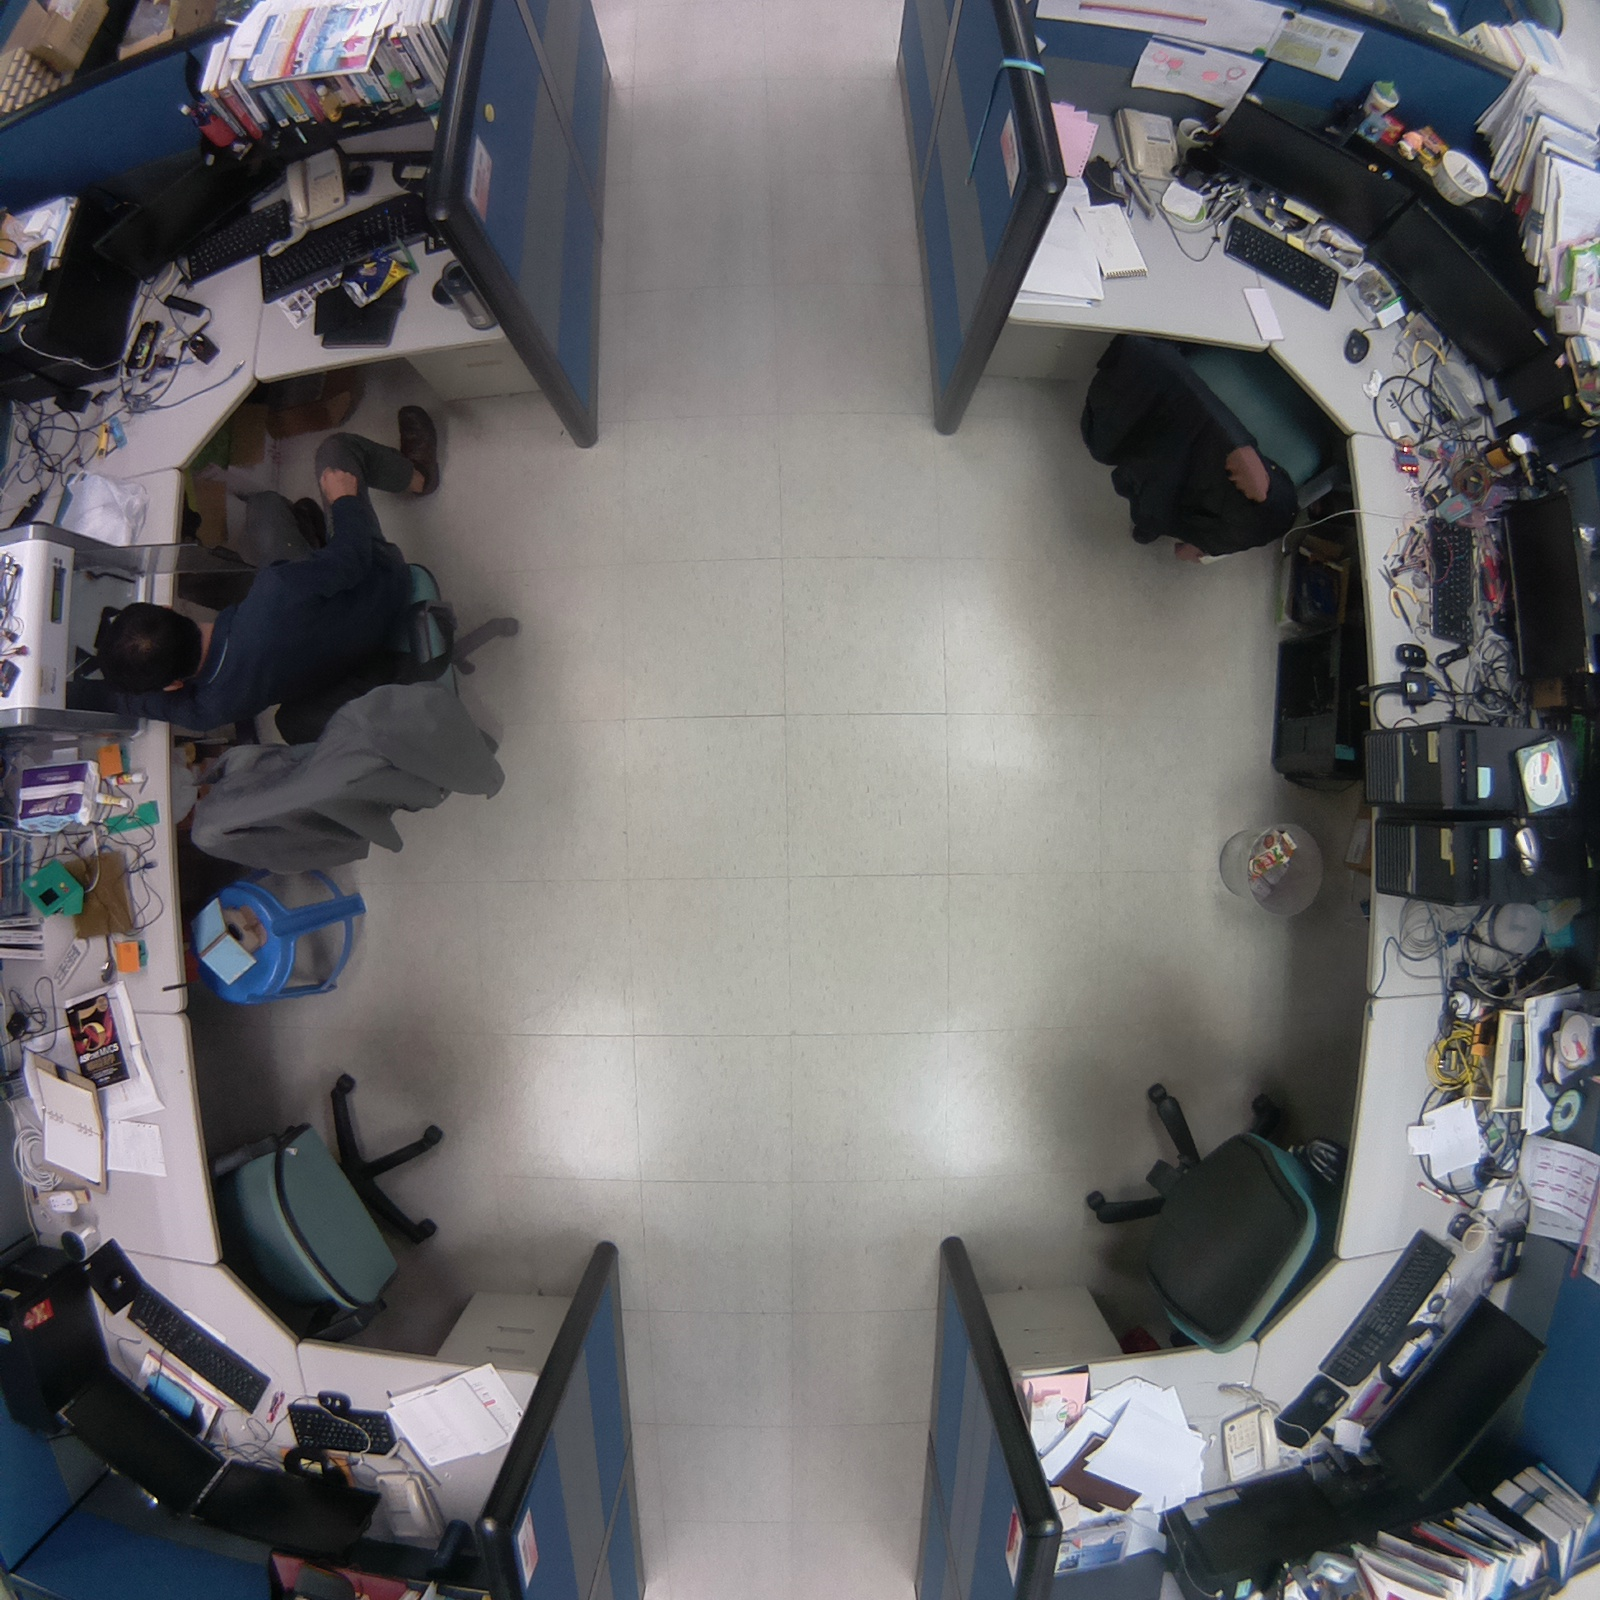chair: (204, 1045, 481, 1370), (1060, 1068, 1355, 1365), (1063, 314, 1347, 573)
head: (91, 604, 212, 700)
sitting: (81, 383, 550, 896)
